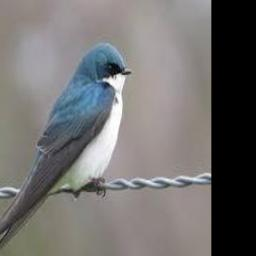Swallow: (0, 43, 134, 253)
